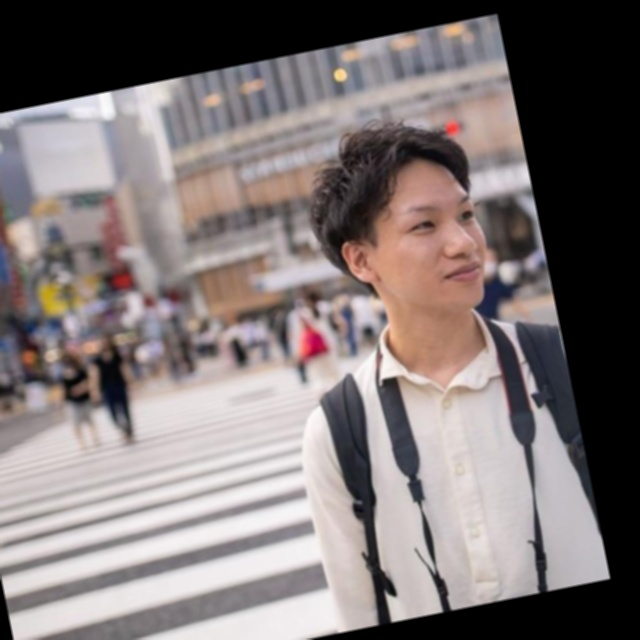Sin_Casco_Mascarrilla: (293, 109, 501, 337)
Sin_Chaleco: (297, 302, 610, 631)
